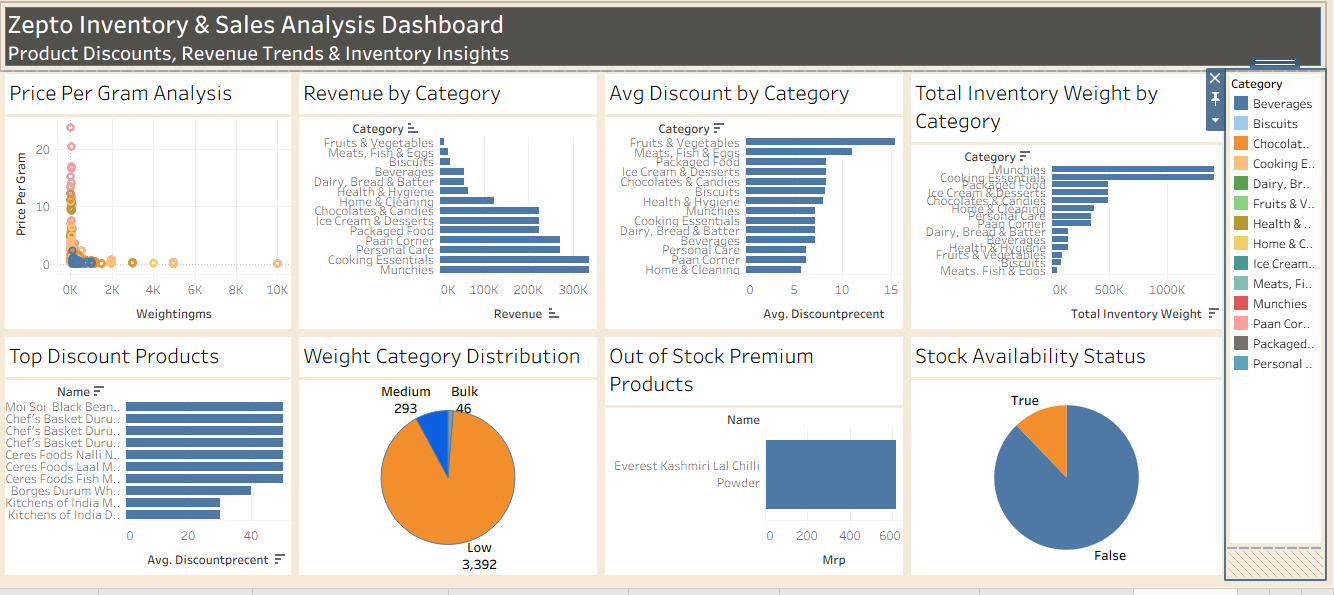

What the dashboard file says about the page in this screenshot:
{"tool":"tableau","page":{"name":"Dashboard 1","canvas":[1000,1000],"units":"permille","ordinal":0},"visuals":[{"type":"title","box":[7.8,17.3,984.5,144.7]},{"type":"worksheet","title":"Price Per Gram Analysis","mark":"Automatic","rows":["Calculation_0518487462051843"],"cols":["weightingms"],"box":[7.8,162,213.4,424.1]},{"type":"worksheet","title":"Revenue by Category","mark":"Automatic","rows":["category"],"cols":["Calculation_0518487455191041"],"box":[221.2,162,221.9,424.1]},{"type":"worksheet","title":"Avg Discount by Category","mark":"Automatic","rows":["category"],"cols":["discountprecent"],"box":[443.1,162,222,424.1]},{"type":"worksheet","title":"Total Inventory Weight by Category","mark":"Automatic","rows":["category"],"cols":["Calculation_0518487468752900"],"box":[665.1,162,231.2,424.1]},{"type":"legend","title":"Price Per Gram Analysis","param":"[federated.0xm7m930o56naw1ctsilx0fz6tyu].[none:category:nk]","box":[896.2,162,96,820.7]},{"type":"worksheet","title":"Top Discount Products","mark":"Automatic","rows":["name"],"cols":["discountprecent"],"box":[7.8,586.1,213.1,396.7]},{"type":"worksheet","title":"Weight Category Distribution","mark":"Pie","box":[220.8,586.1,222.1,396.7]},{"type":"worksheet","title":"Out of Stock Premium Products","mark":"Automatic","rows":["name"],"cols":["mrp"],"box":[442.9,586.1,222.1,396.7]},{"type":"worksheet","title":"Stock Availability Status","mark":"Pie","box":[665,586.1,231.2,396.7]}]}

Visuals, with their boxes on the dashboard's canvas, which has no fixed pixel size, in thousandths of its width and height (x1, y1, x2, y2). These are canvas units, not pixel positions in the 1334x595 screenshot, which may show the page scaled, cropped or inside an application window:
title: [left=8, top=17, right=992, bottom=162]
"Price Per Gram Analysis" worksheet: [left=8, top=162, right=221, bottom=586]
"Revenue by Category" worksheet: [left=221, top=162, right=443, bottom=586]
"Avg Discount by Category" worksheet: [left=443, top=162, right=665, bottom=586]
"Total Inventory Weight by Category" worksheet: [left=665, top=162, right=896, bottom=586]
"Price Per Gram Analysis" legend: [left=896, top=162, right=992, bottom=983]
"Top Discount Products" worksheet: [left=8, top=586, right=221, bottom=983]
"Weight Category Distribution" worksheet (Pie marks): [left=221, top=586, right=443, bottom=983]
"Out of Stock Premium Products" worksheet: [left=443, top=586, right=665, bottom=983]
"Stock Availability Status" worksheet (Pie marks): [left=665, top=586, right=896, bottom=983]
